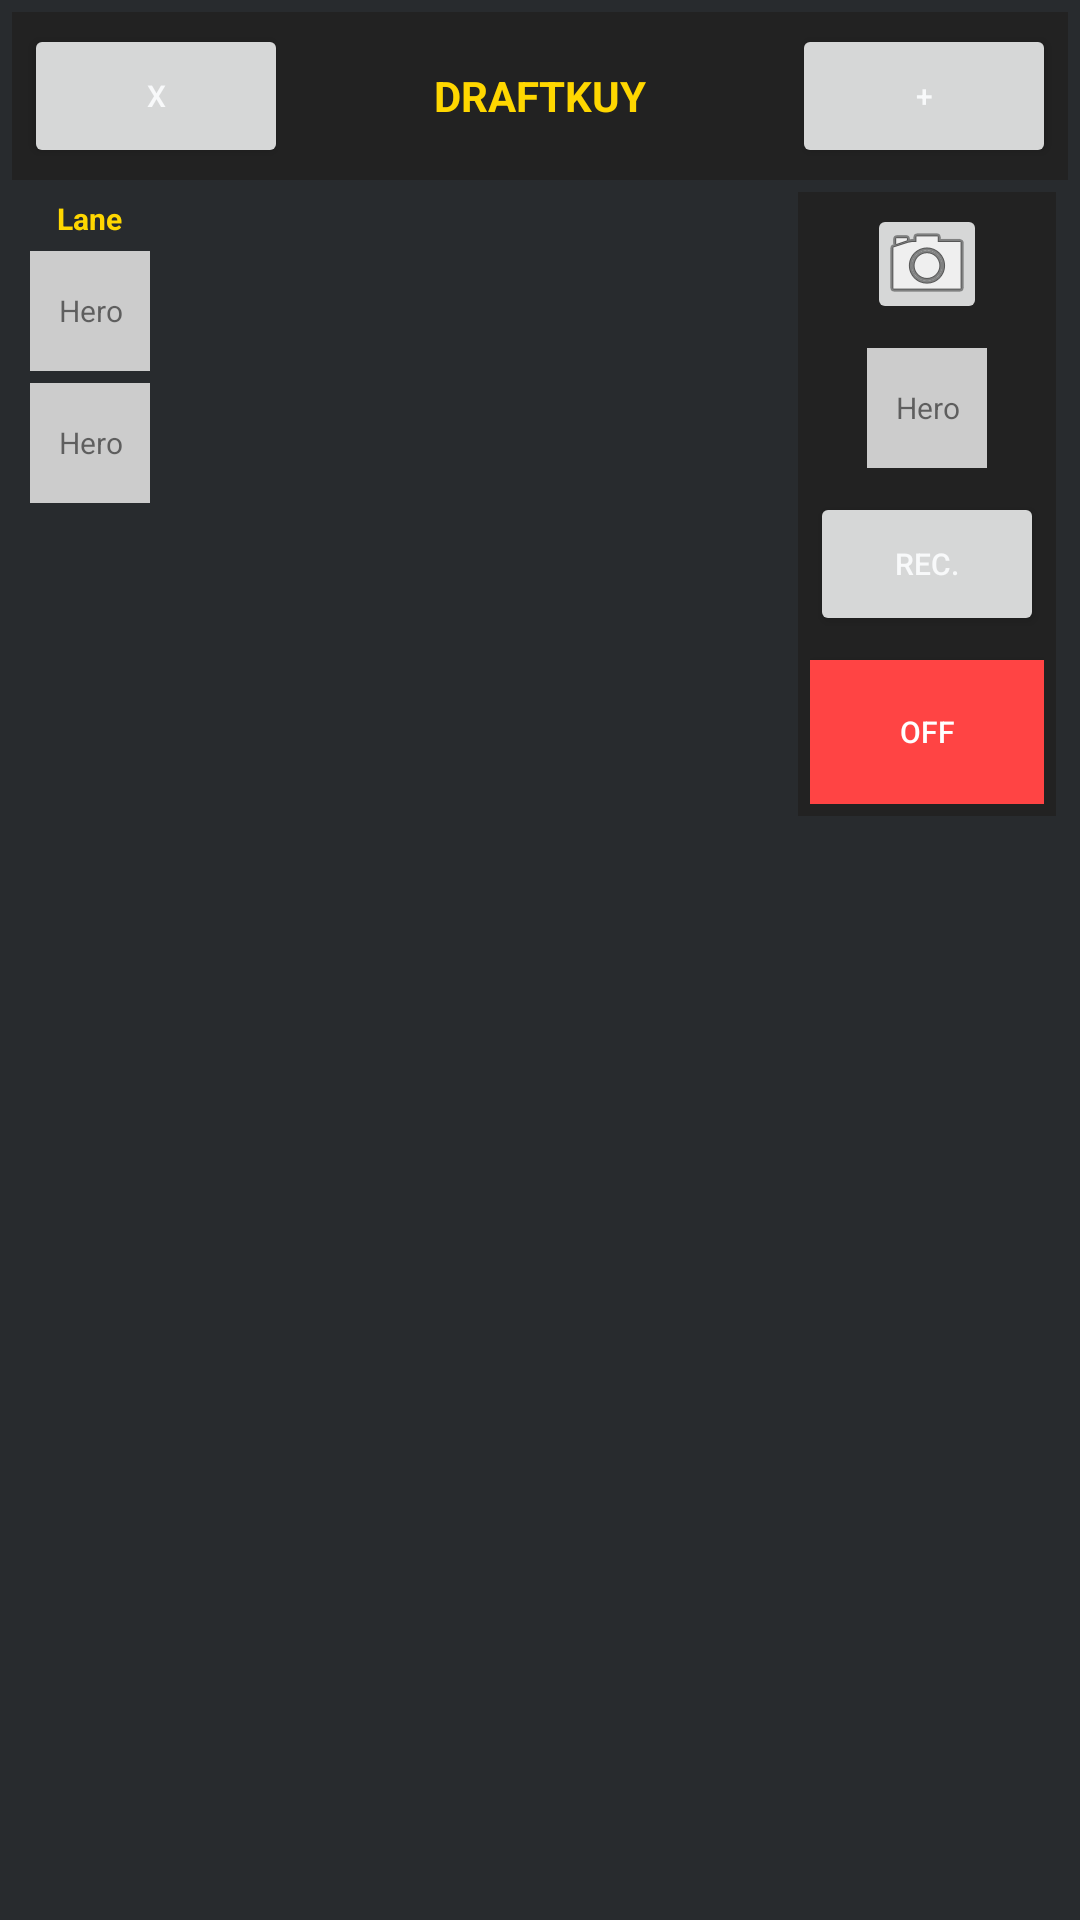

Icons on this 1080w x 1920h Android screen, each with the point to tap as (x=x, y=y):
camera: (x=927, y=264)
